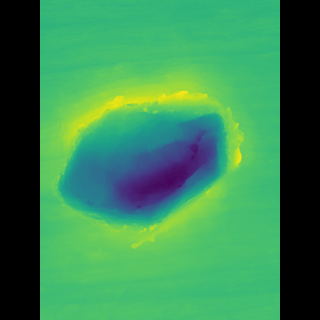Loch: (70, 72, 237, 248)
